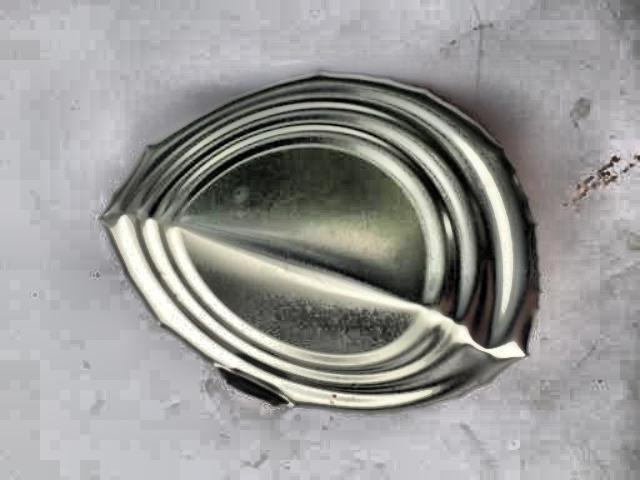Almennt: (91, 39, 542, 434)
